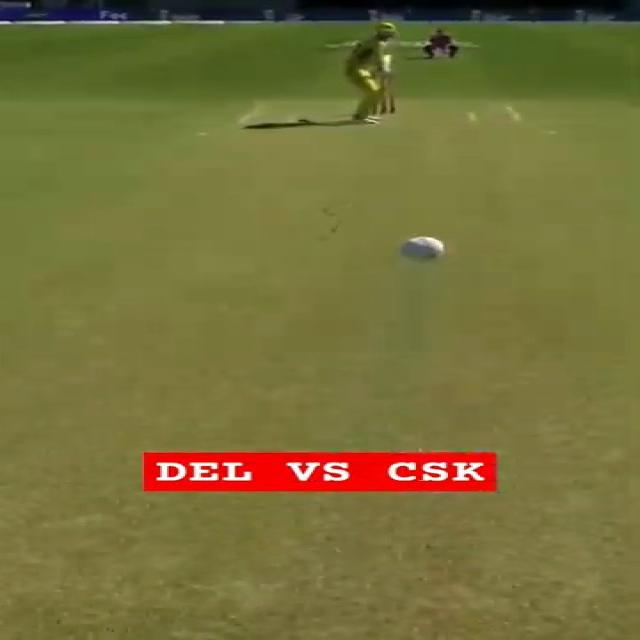ball: (398, 235, 446, 266)
